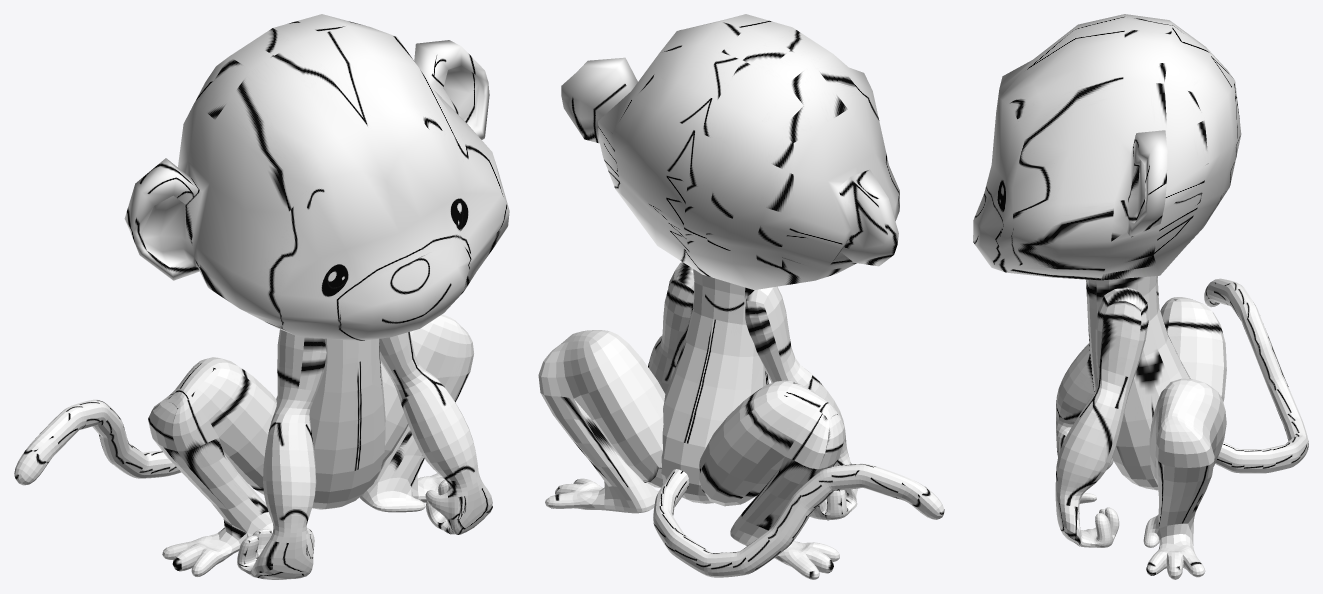
File: singe2.glb
The picture shows the model from 3 angles, left to right: view 1: azimuth 30°, elevation 25°; view 2: azimuth 150°, elevation 25°; view 3: azimuth 270°, elevation 25°; orthographic projection. The views are drawn at different scales.
Parts seen in each view (by area): view 1: Cube.004; view 2: Cube.004; view 3: Cube.004.
Boxes of the visible parts, x1,y1,x2,y2 form: Cube.004: (14,14,509,579); Cube.004: (538,14,944,579); Cube.004: (973,14,1308,579).
Size of the model in its own units: 4.13 by 4.78 by 3.
1 material, 1 textured.
